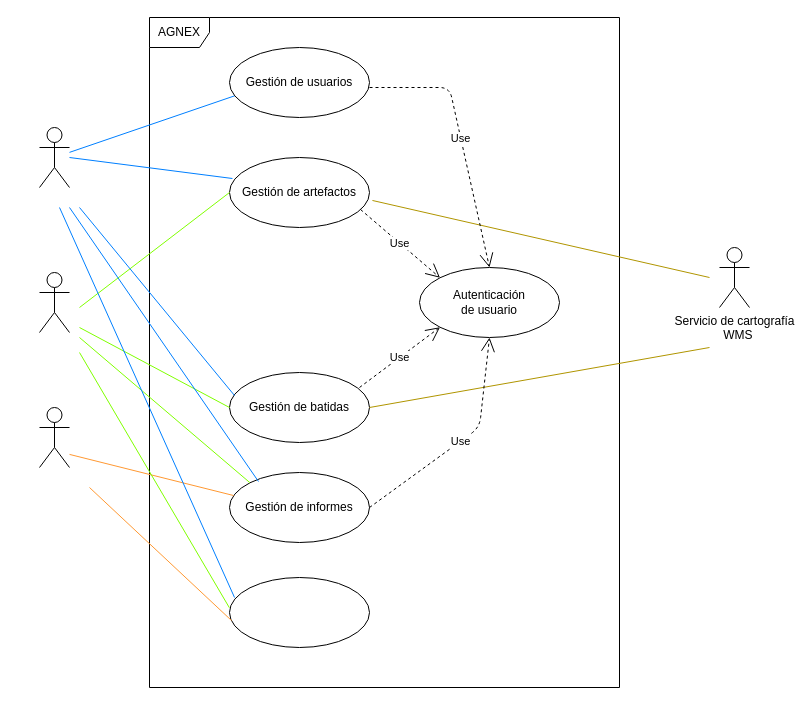
Some shapes in this 812 by 705 pixel diagram are drawn without their labels. Each missing label, with the centre of its shape:
"Administrador" belongs at pixel 54 157.
"Consulta de objetos sobre el visor GIS" belongs at pixel 299 612.
"Consultas" belongs at pixel 54 437.
"Gestor" belongs at pixel 54 302.
